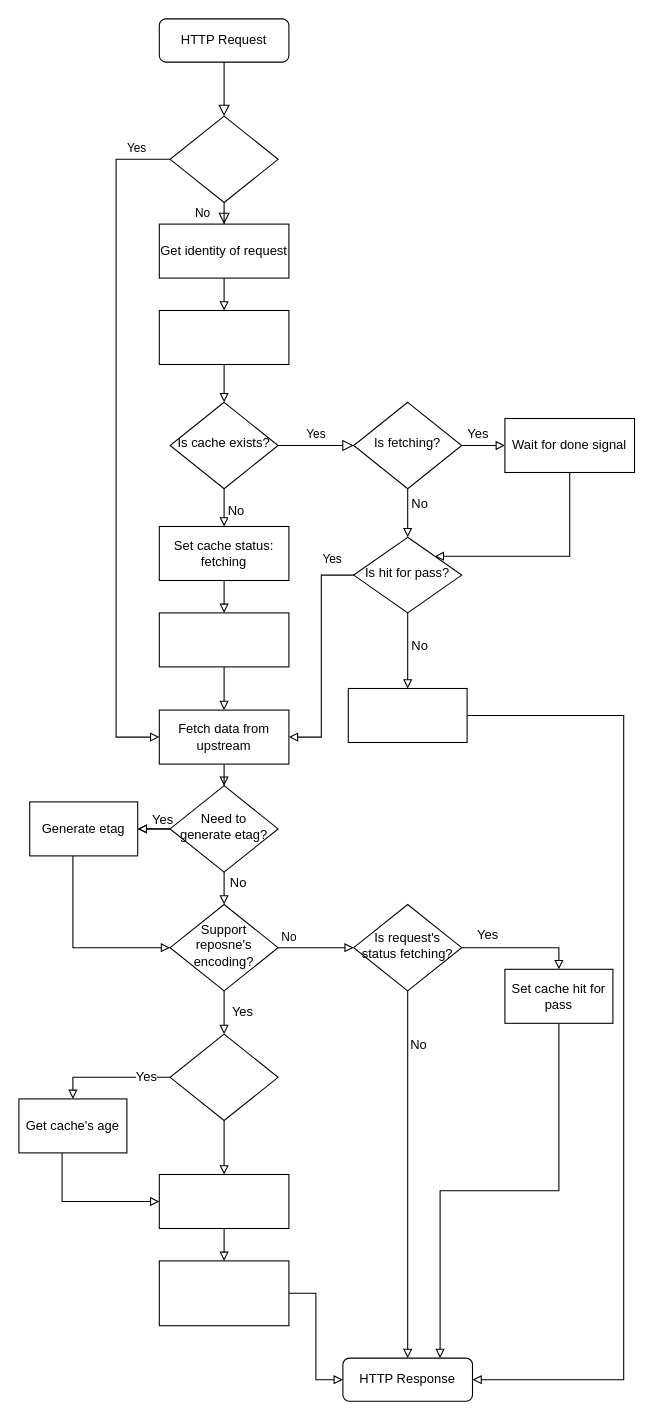
The diagram is 653 pixels wide and 1420 high, and some of its shapes have lost their labels. Here are the shapes that lost their labels. From the top down, the box of each, then its label:
(169, 115, 278, 202): Is pass(not get or head)?
(158, 309, 289, 364): Get http cache
(158, 612, 289, 667): Choose an matched and available upstream
(347, 687, 467, 742): Set response by cache
(169, 1033, 278, 1120): Is pass(not cacheable)?
(158, 1173, 289, 1228): Compress response
(158, 1260, 289, 1326): Update cache and send signal to wait channels
